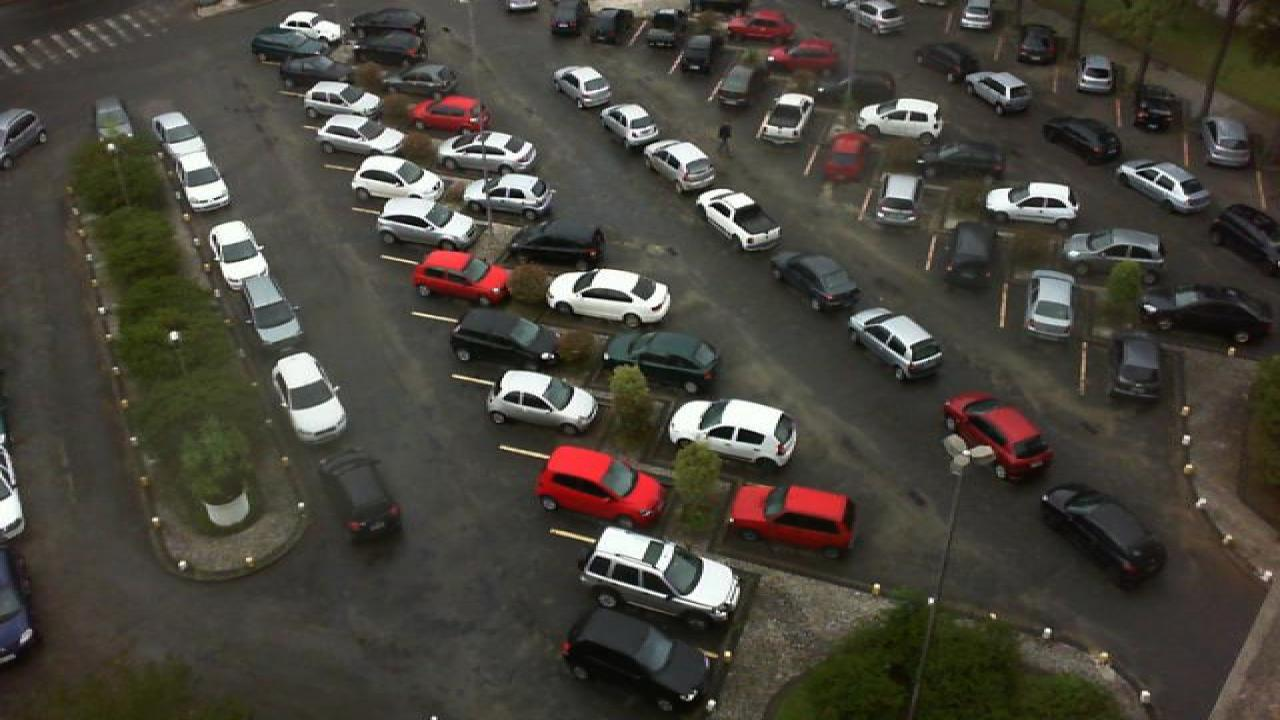Car: (556, 606, 724, 715), (578, 526, 746, 628), (1038, 483, 1170, 592), (532, 444, 668, 530), (726, 480, 858, 560), (942, 392, 1058, 482), (664, 396, 802, 471), (482, 368, 600, 438), (1142, 284, 1274, 346), (268, 350, 354, 444), (544, 266, 674, 328), (600, 330, 726, 393), (320, 448, 406, 540), (844, 305, 948, 381), (450, 305, 564, 367), (410, 249, 516, 308), (772, 248, 864, 312), (694, 187, 784, 252), (374, 197, 478, 253), (1114, 159, 1214, 215), (508, 219, 610, 268), (348, 154, 450, 203), (1062, 228, 1166, 274), (312, 112, 410, 160), (1206, 202, 1280, 264), (234, 280, 302, 347), (982, 181, 1082, 226), (466, 172, 556, 221), (1042, 114, 1126, 166), (1108, 330, 1168, 402), (438, 130, 540, 172), (208, 219, 270, 287), (940, 220, 1002, 288), (854, 96, 944, 142), (1024, 269, 1078, 341), (918, 136, 1010, 178), (644, 137, 716, 190), (174, 154, 234, 213), (410, 93, 492, 135), (870, 173, 926, 233), (964, 70, 1034, 117), (274, 53, 356, 93), (300, 81, 384, 120), (380, 63, 464, 102), (754, 92, 816, 144), (598, 102, 664, 150), (1200, 116, 1258, 169), (914, 41, 982, 84), (348, 29, 428, 64), (248, 28, 326, 63), (550, 66, 612, 110), (820, 131, 872, 182), (150, 110, 200, 163), (1132, 80, 1182, 132), (774, 37, 842, 74), (672, 31, 728, 74), (724, 9, 798, 41), (348, 7, 428, 36), (92, 96, 138, 146), (630, 7, 686, 48), (278, 9, 344, 43), (846, 0, 908, 36), (710, 64, 758, 109), (1018, 22, 1062, 66), (1076, 54, 1118, 96), (588, 6, 632, 45), (546, 0, 590, 37), (958, 0, 998, 30)
